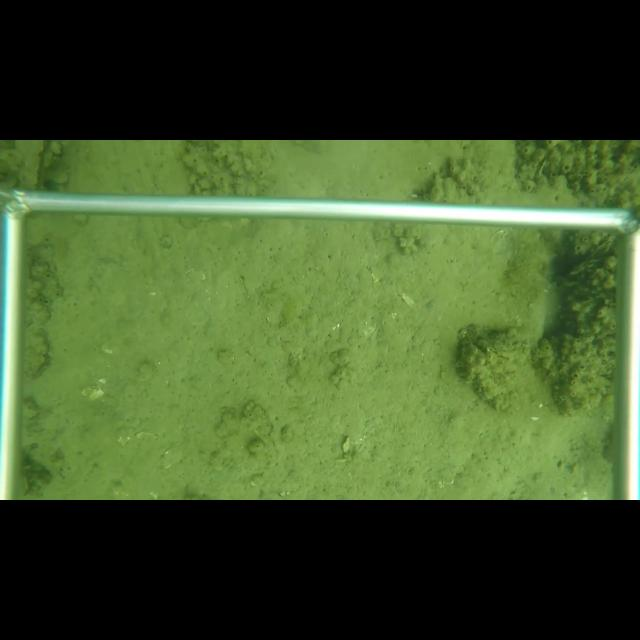Oyster-Closed: (455, 325, 533, 417), (14, 140, 42, 188)
Oyster-Open: (22, 323, 52, 381), (564, 257, 608, 278), (532, 150, 549, 182), (590, 234, 612, 256)
